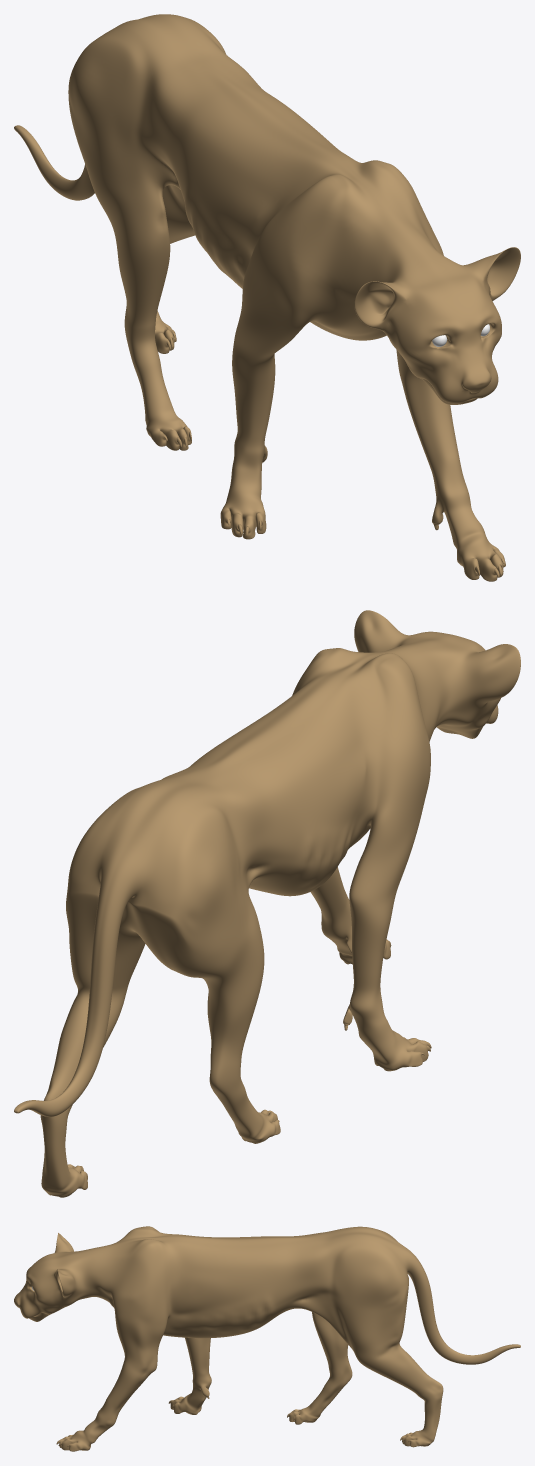
Rendered from cheetah.glb.
3 renders of one model, top to bottom at view 1: azimuth 30°, elevation 25°; view 2: azimuth 150°, elevation 25°; view 3: azimuth 270°, elevation 25°, orthographic. The views are drawn at different scales.
Visible parts, largest first — view 1: Cheetah; view 2: Cheetah; view 3: Cheetah.
Boxes of the visible parts, x1=… form: Cheetah: x1=14, y1=14, x2=520, y2=581; Cheetah: x1=14, y1=610, x2=520, y2=1197; Cheetah: x1=14, y1=1226, x2=520, y2=1451.
Bounding box in the file's own units: 1.32 × 2.57 × 5.85.
